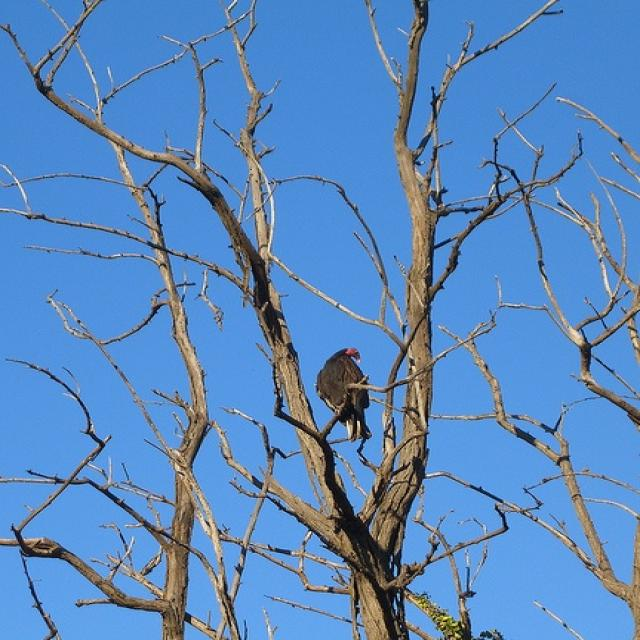bird: (312, 344, 374, 443)
